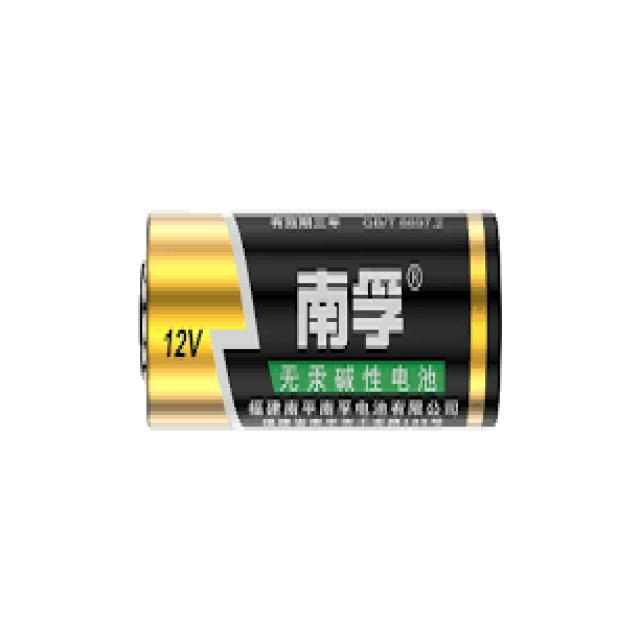Battery: (87, 182, 534, 458)
